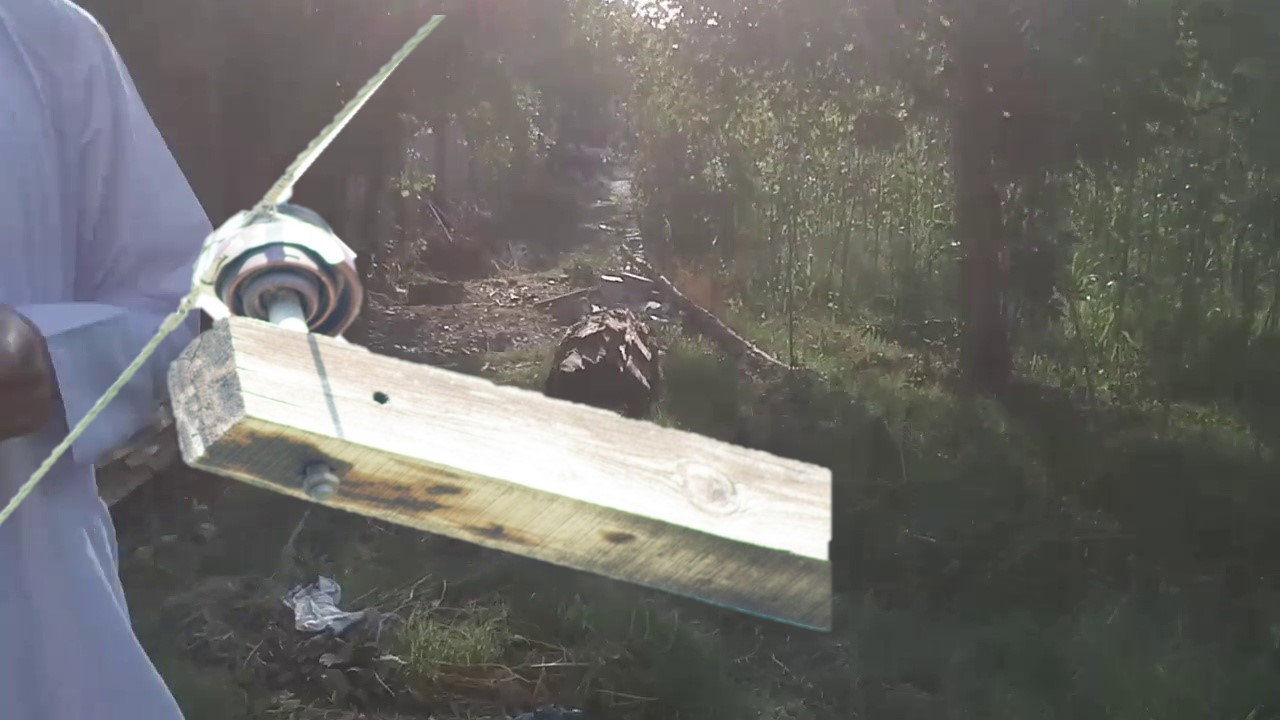defect_pin: (184, 197, 372, 339)
